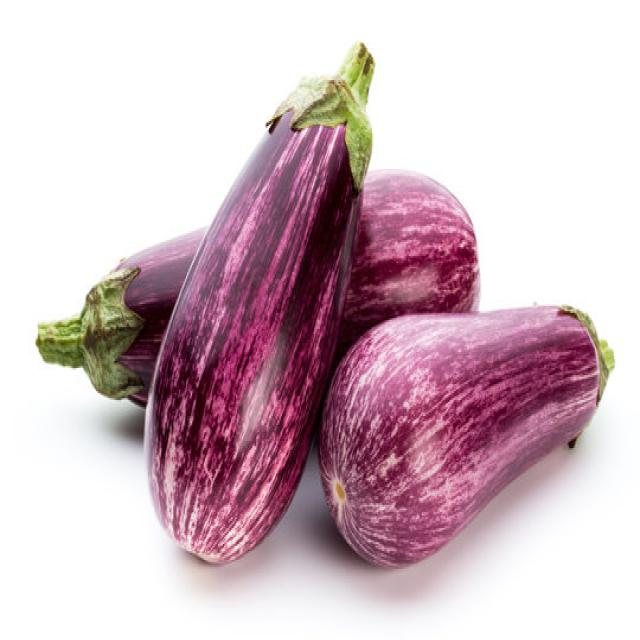Eggplant: (141, 39, 376, 564), (316, 302, 614, 569), (34, 222, 210, 409), (335, 167, 480, 352)
